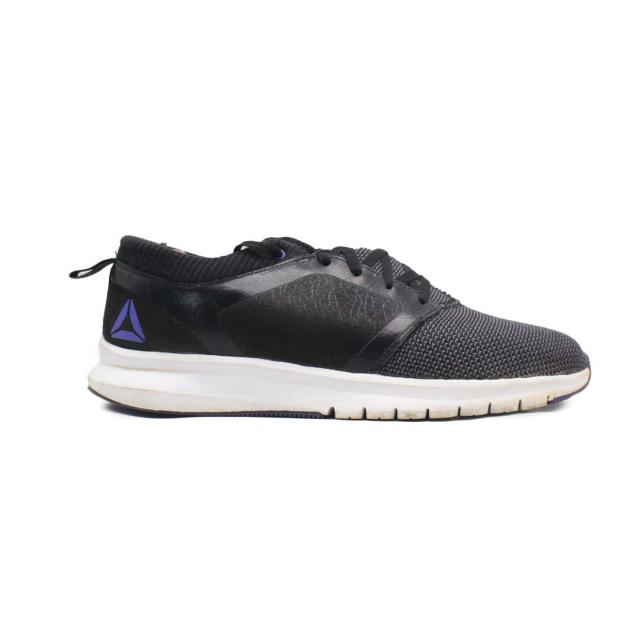heel: (66, 236, 205, 352)
midsole: (85, 334, 592, 420)
uppersole: (194, 235, 592, 380)
